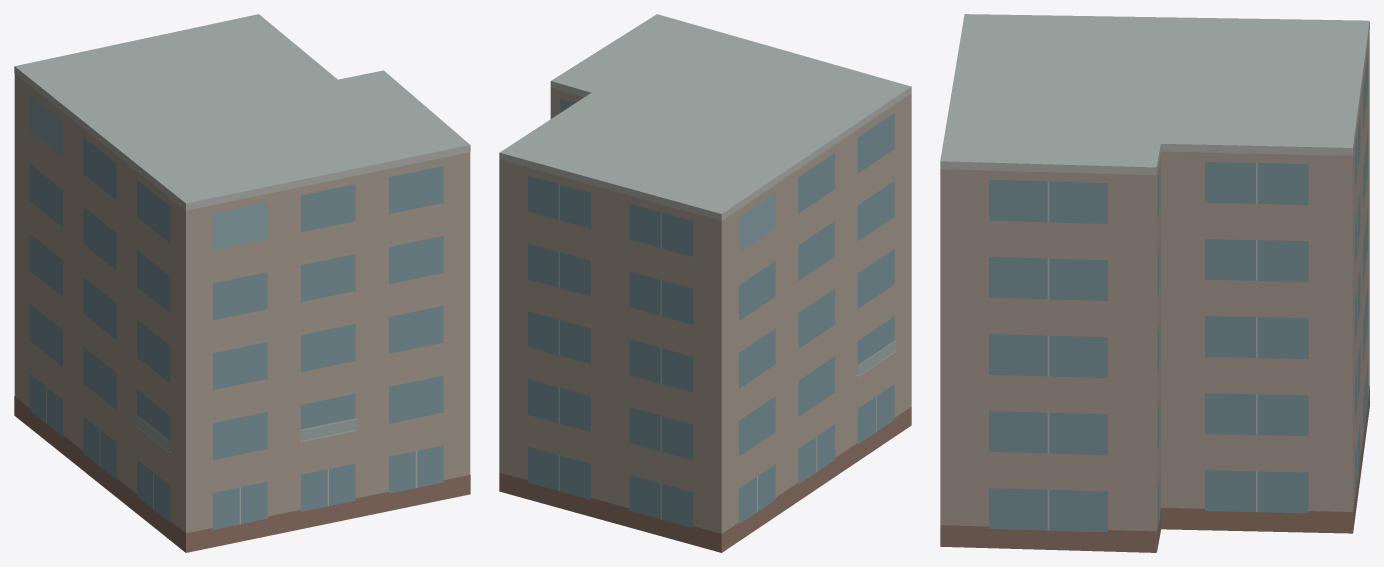
Rendered from survey-upis-33019214.glb.
3 views of the same model, side by side, from view 1: azimuth 30°, elevation 25°; view 2: azimuth 150°, elevation 25°; view 3: azimuth 270°, elevation 25° (orthographic). The views are drawn at different scales.
Parts seen in each view (by area): view 1: survey-upis-33019214.tmp; view 2: survey-upis-33019214.tmp; view 3: survey-upis-33019214.tmp.
Part boxes in pixels (x1=…): survey-upis-33019214.tmp: x1=14, y1=14, x2=470, y2=552; survey-upis-33019214.tmp: x1=499, y1=14, x2=911, y2=552; survey-upis-33019214.tmp: x1=940, y1=14, x2=1369, y2=552.
Size of the model in its own units: 10.25 by 12 by 12.13.
